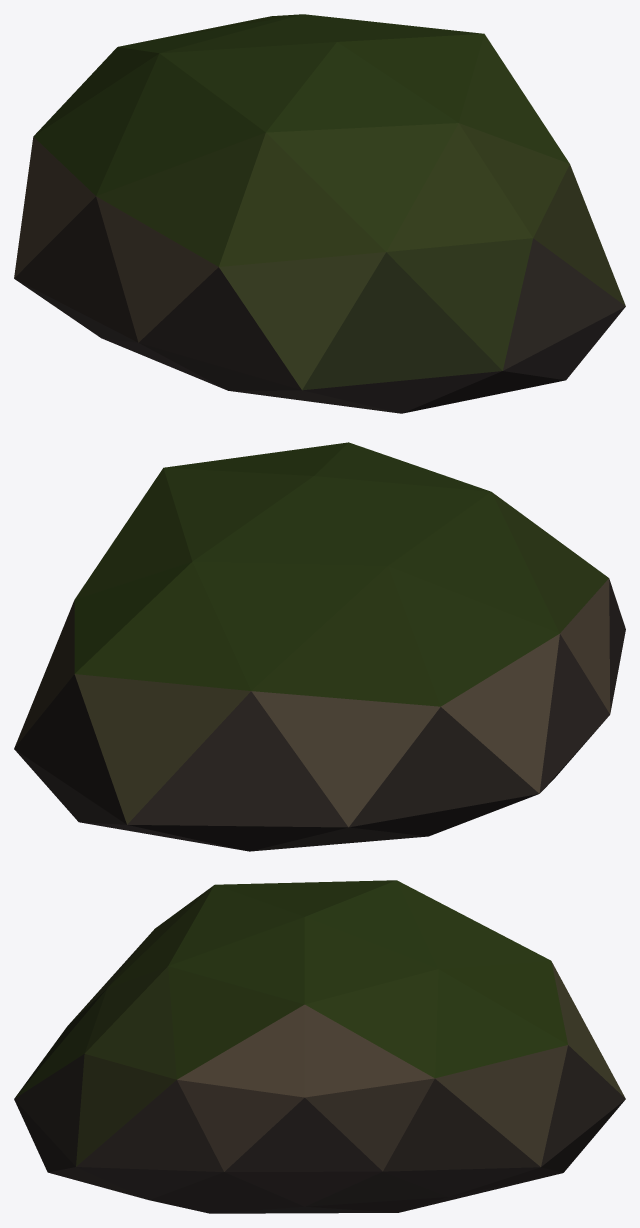
Rendered from boulder_large.glb.
3 renders of one model, top to bottom at view 1: azimuth 30°, elevation 25°; view 2: azimuth 150°, elevation 25°; view 3: azimuth 270°, elevation 25°, orthographic. The views are drawn at different scales.
Parts seen in each view (by area): view 1: boulder_large; view 2: boulder_large; view 3: boulder_large.
Boxes of the visible parts, bbox=[...] form: boulder_large: bbox=[14, 14, 625, 413]; boulder_large: bbox=[14, 442, 625, 851]; boulder_large: bbox=[14, 880, 625, 1213].
Size of the model in its own units: 2.78 by 1.68 by 3.8.
